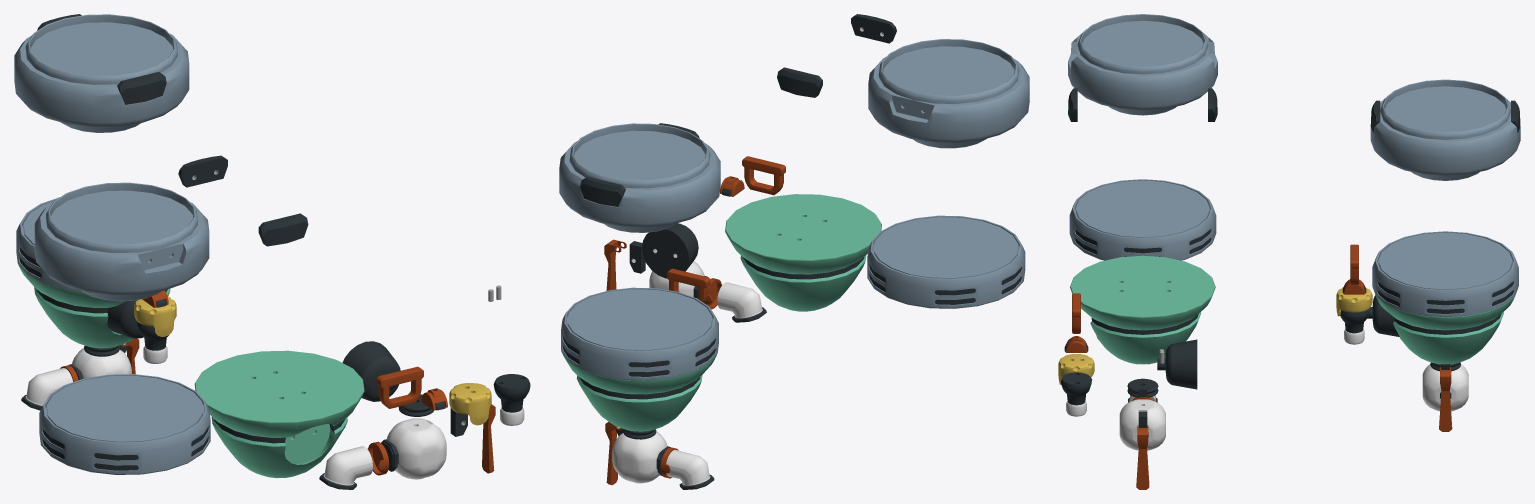
Rendered from HoneyDew Mei Tank.fbx.
3 renders of one model, left to right at view 1: azimuth 30°, elevation 25°; view 2: azimuth 150°, elevation 25°; view 3: azimuth 270°, elevation 25°, orthographic. The views are drawn at different scales.
Visible parts, largest first — view 1: Tank_Glass2, Tank_Glass7, polySurface36, Tank_Glass5, polySurface37, pCube23, pCube20, polySurface28, polySurface8, Tank_Glass6, pCylinder16, pCylinder18 (+8 smaller); view 2: Tank_Glass2, Tank_Glass7, polySurface36, Tank_Glass5, Tank_Glass6, polySurface37, polySurface28, pCube26, pCube20, polySurface8, polySurface33, pCube29 (+5 smaller); view 3: Tank_Glass2, Tank_Glass7, polySurface36, Tank_Glass6, Tank_Glass5, polySurface37, pCube23, polySurface28, pCube26, pCylinder16, pCylinder22, pCube18 (+6 smaller).
Part boxes in pixels (x1=…): Tank_Glass2: x1=34, y1=182, x2=209, y2=301; Tank_Glass7: x1=14, y1=14, x2=189, y2=132; polySurface36: x1=194, y1=350, x2=364, y2=478; Tank_Glass5: x1=39, y1=374, x2=210, y2=474; polySurface37: x1=18, y1=264, x2=170, y2=348; pCube23: x1=381, y1=418, x2=446, y2=479; pCube20: x1=178, y1=155, x2=308, y2=246; polySurface28: x1=342, y1=341, x2=400, y2=401; polySurface8: x1=319, y1=446, x2=372, y2=489; Tank_Glass6: x1=16, y1=197, x2=81, y2=291; pCylinder16: x1=493, y1=374, x2=530, y2=425; pCylinder18: x1=449, y1=383, x2=491, y2=425; Tank_Glass2: x1=868, y1=39, x2=1029, y2=148; Tank_Glass7: x1=559, y1=123, x2=720, y2=232; polySurface36: x1=725, y1=194, x2=881, y2=311; Tank_Glass5: x1=867, y1=215, x2=1025, y2=308; Tank_Glass6: x1=561, y1=287, x2=718, y2=380; polySurface37: x1=561, y1=351, x2=716, y2=431; polySurface28: x1=642, y1=223, x2=698, y2=278; pCube26: x1=612, y1=431, x2=670, y2=483; pCube20: x1=777, y1=14, x2=896, y2=97; polySurface8: x1=717, y1=282, x2=766, y2=322; polySurface33: x1=666, y1=450, x2=714, y2=489; pCube29: x1=580, y1=123, x2=699, y2=206; Tank_Glass2: x1=1068, y1=14, x2=1217, y2=115; Tank_Glass7: x1=1370, y1=79, x2=1520, y2=180; polySurface36: x1=1070, y1=255, x2=1215, y2=364; Tank_Glass6: x1=1372, y1=231, x2=1518, y2=317; Tank_Glass5: x1=1069, y1=179, x2=1216, y2=260; polySurface37: x1=1372, y1=287, x2=1517, y2=364; pCube23: x1=1119, y1=399, x2=1165, y2=450; polySurface28: x1=1157, y1=339, x2=1197, y2=389; pCube26: x1=1422, y1=364, x2=1468, y2=411; pCylinder16: x1=1060, y1=372, x2=1092, y2=416; pCylinder22: x1=1340, y1=308, x2=1369, y2=344; pCube18: x1=1136, y1=425, x2=1149, y2=489.
Bounding box in the file's own units: 39.53 × 29.68 × 39.76.
